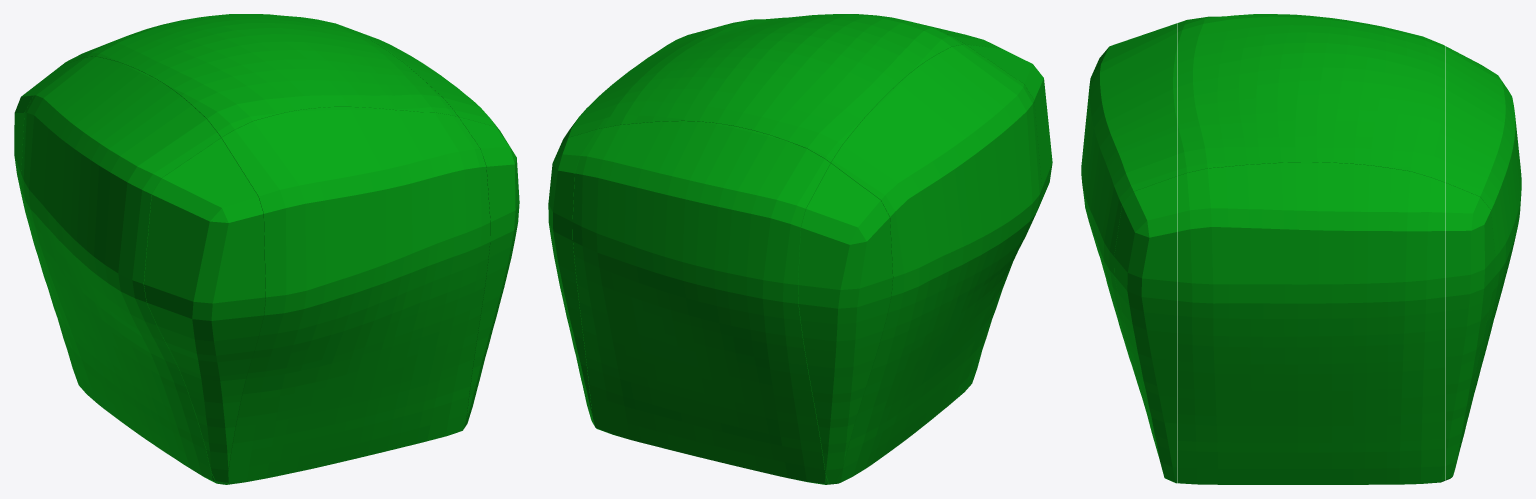
The model's file is 4by10beveledsubdivided.035.fbx.
3 views of the same model, side by side, from view 1: azimuth 30°, elevation 25°; view 2: azimuth 150°, elevation 25°; view 3: azimuth 270°, elevation 25° (orthographic).
Visible parts, largest first — view 1: 4by10beveledsubdivided.035; view 2: 4by10beveledsubdivided.035; view 3: 4by10beveledsubdivided.035.
Boxes of the visible parts, x1,y1,x2,y2 form: 4by10beveledsubdivided.035: (14, 14, 519, 484); 4by10beveledsubdivided.035: (548, 14, 1052, 484); 4by10beveledsubdivided.035: (1081, 14, 1521, 484).
Bounding box in the file's own units: 322 × 299 × 328.
